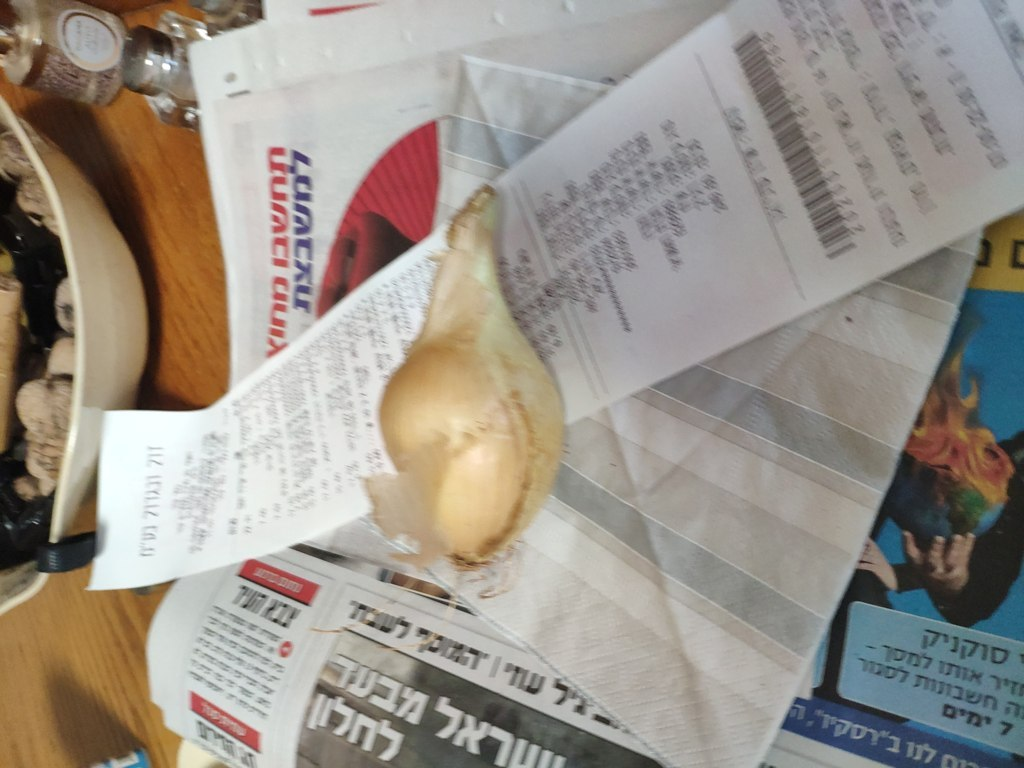Onion: (372, 255, 555, 571)
